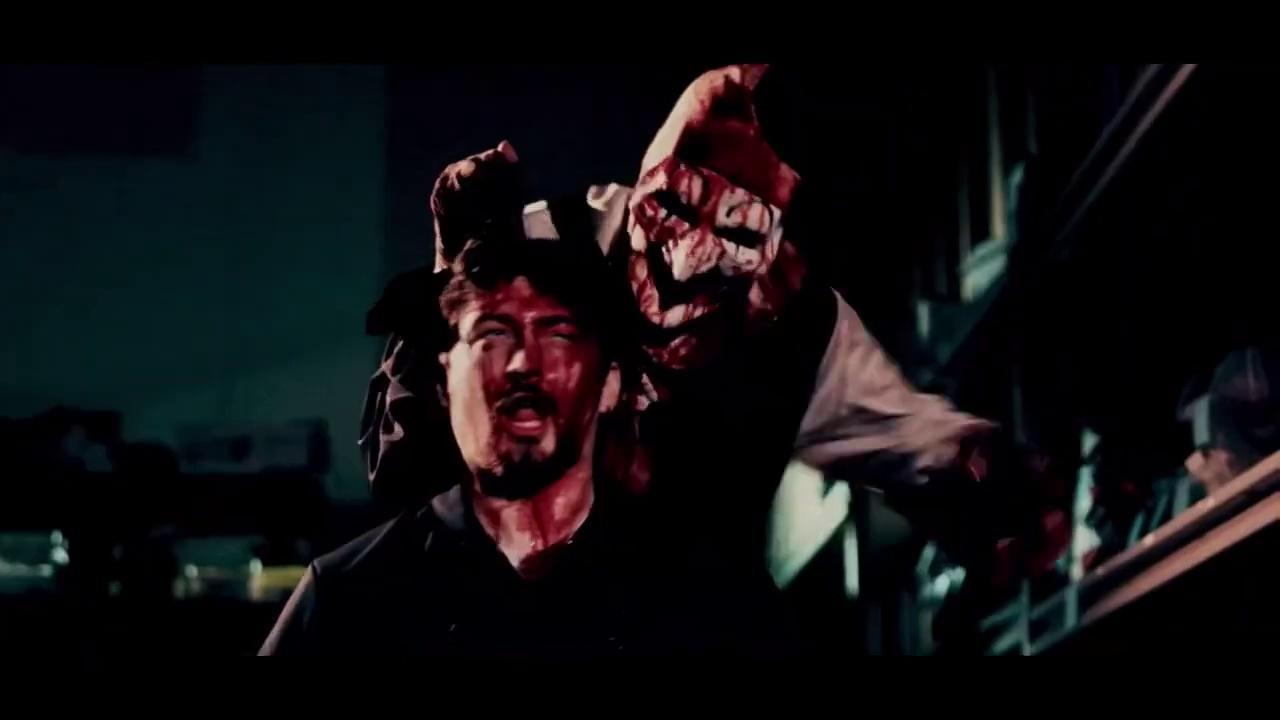Fire: (441, 65, 802, 565)
